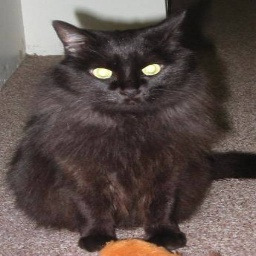cat: (9, 9, 218, 241)
